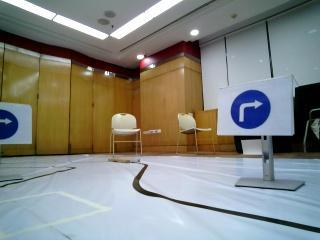right: (221, 88, 289, 131), (0, 101, 28, 143)
